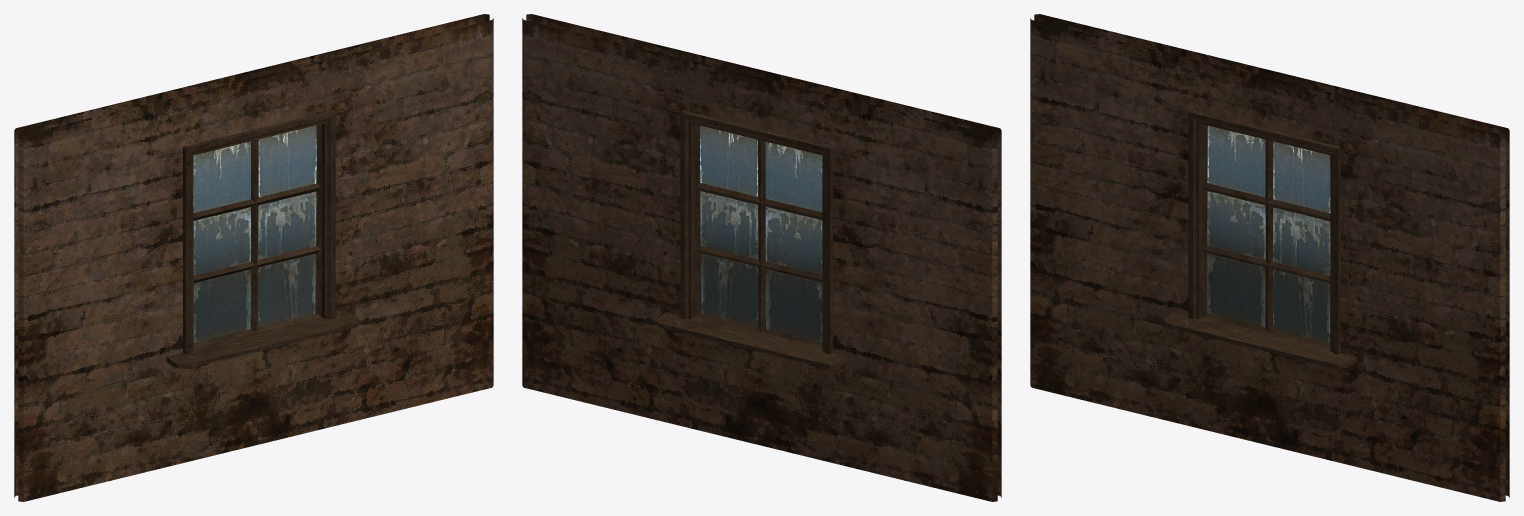
Rendered from window_1_single.fbx.
The picture shows the model from 3 angles, left to right: view 1: azimuth 30°, elevation 25°; view 2: azimuth 150°, elevation 25°; view 3: azimuth 330°, elevation 25°; orthographic projection.
Visible parts, largest first — view 1: window_1_single; view 2: window_1_single; view 3: window_1_single.
Part boxes in pixels (left/top/right/bottom): window_1_single: left=14, top=14, right=493, bottom=501; window_1_single: left=522, top=14, right=1001, bottom=501; window_1_single: left=1030, top=14, right=1509, bottom=501.
Bounding box in the file's own units: 4.06 × 3 × 0.52.
